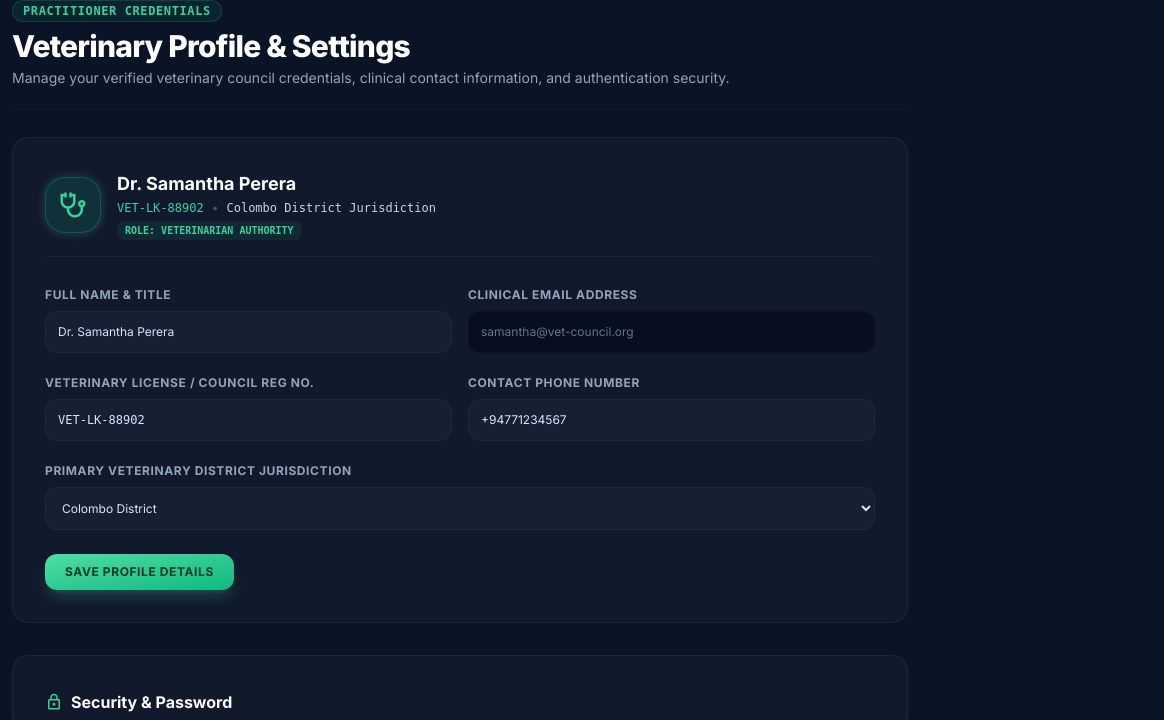
Test: VetSettings Component › submits updated profile via PUT /api/vet/profile and updates localStorage
The width and height of the screenshot is (1164, 720).
Replace the text in the field showing "Dr. Samantha Perera" below "Full Name & Title" with "Dr. Samantha Silva". click: (248, 332)
box: left=45, top=311, right=452, bottom=353
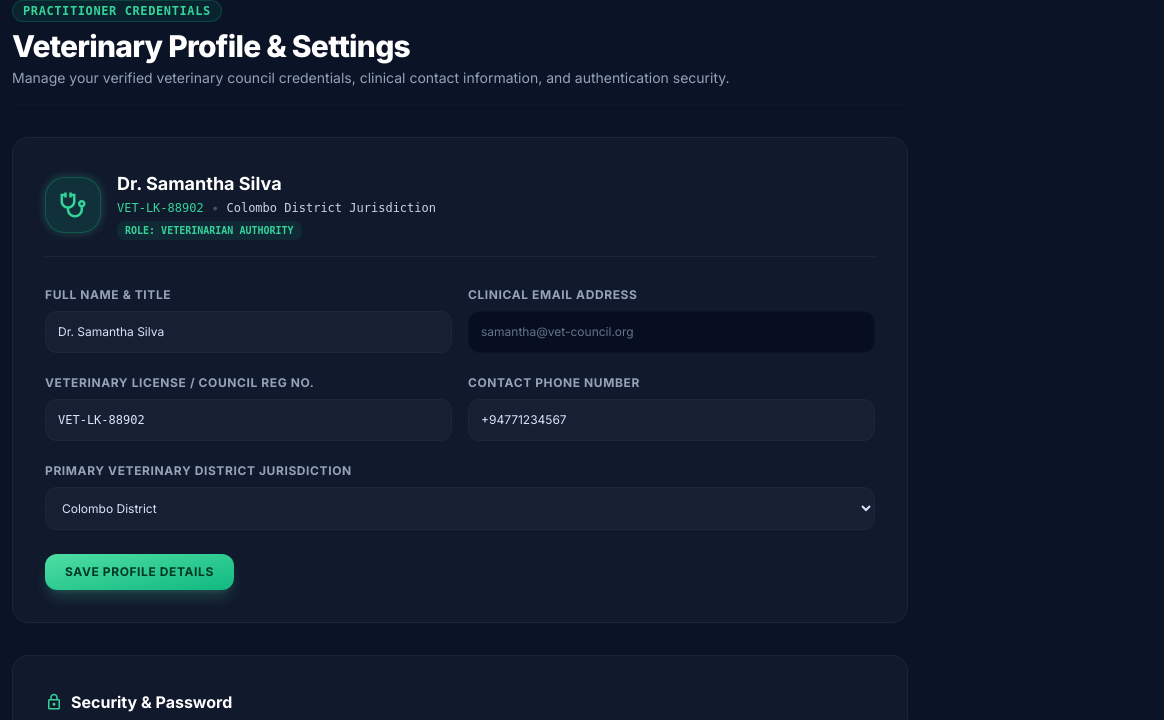
Replace the text in the field showing "+94771234567" below "Contact Phone Number" with "+94779998888". click: (672, 420)
box: left=468, top=399, right=875, bottom=441
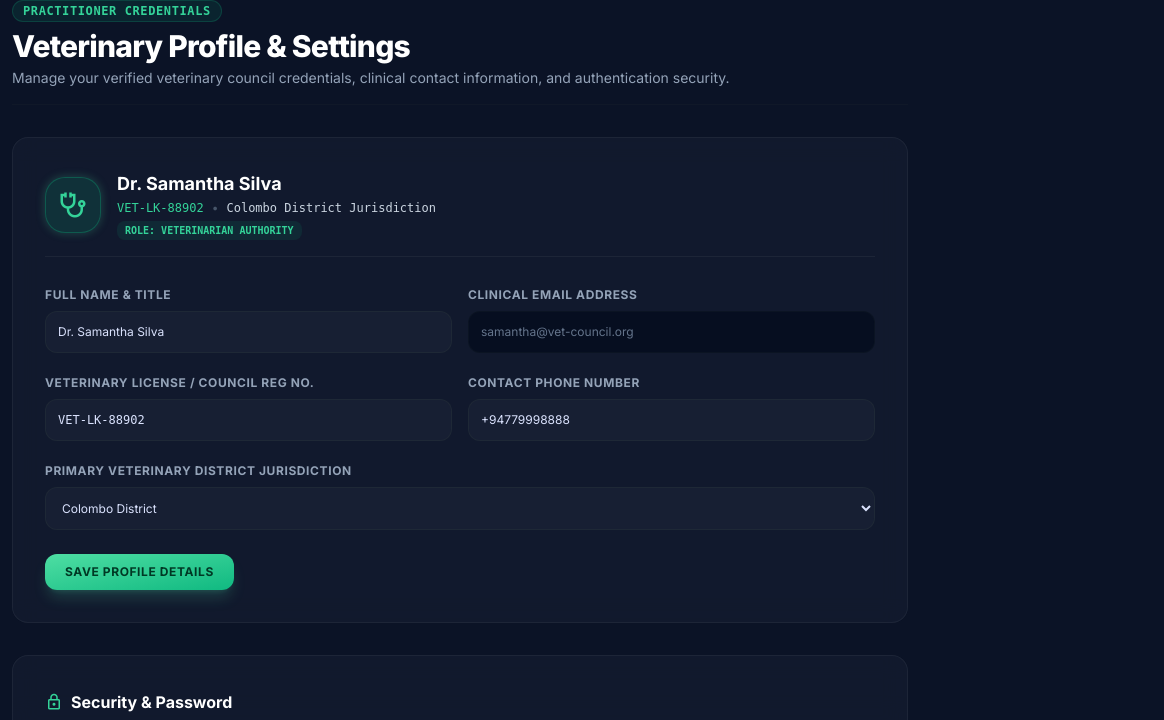
Select "Galle District" in the dropdown. click: (460, 508)
box: left=45, top=487, right=875, bottom=530
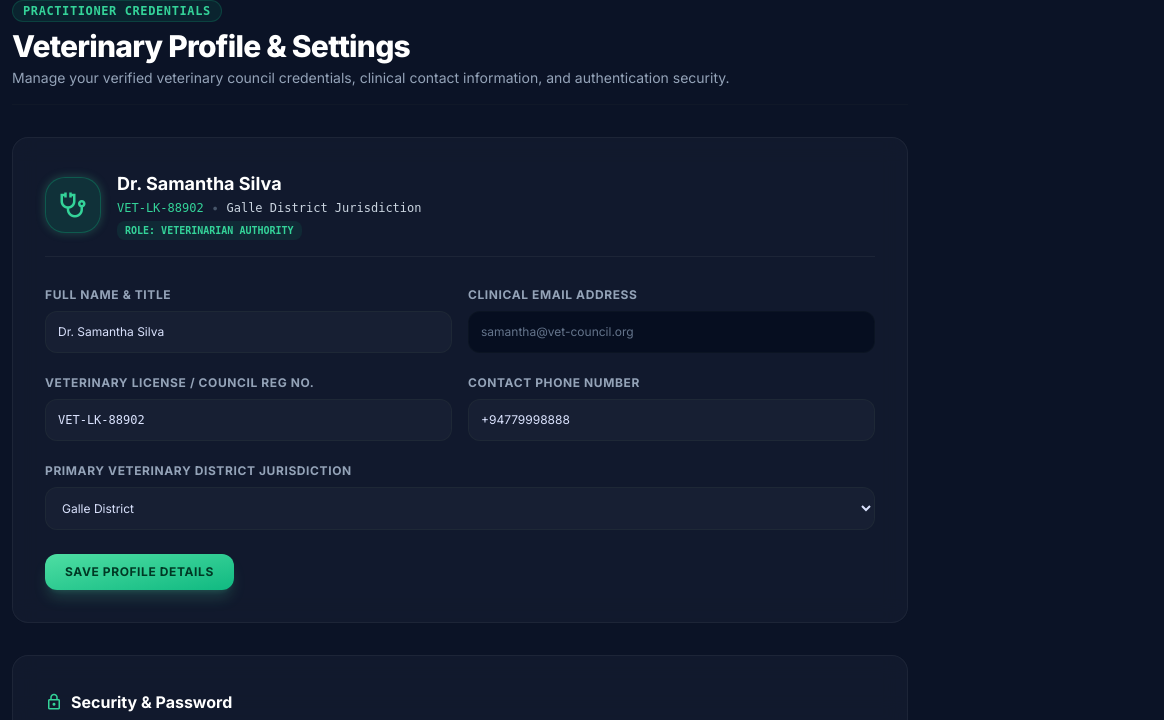
Click the button "Save Profile Details". click: (139, 572)
box: left=45, top=554, right=234, bottom=590
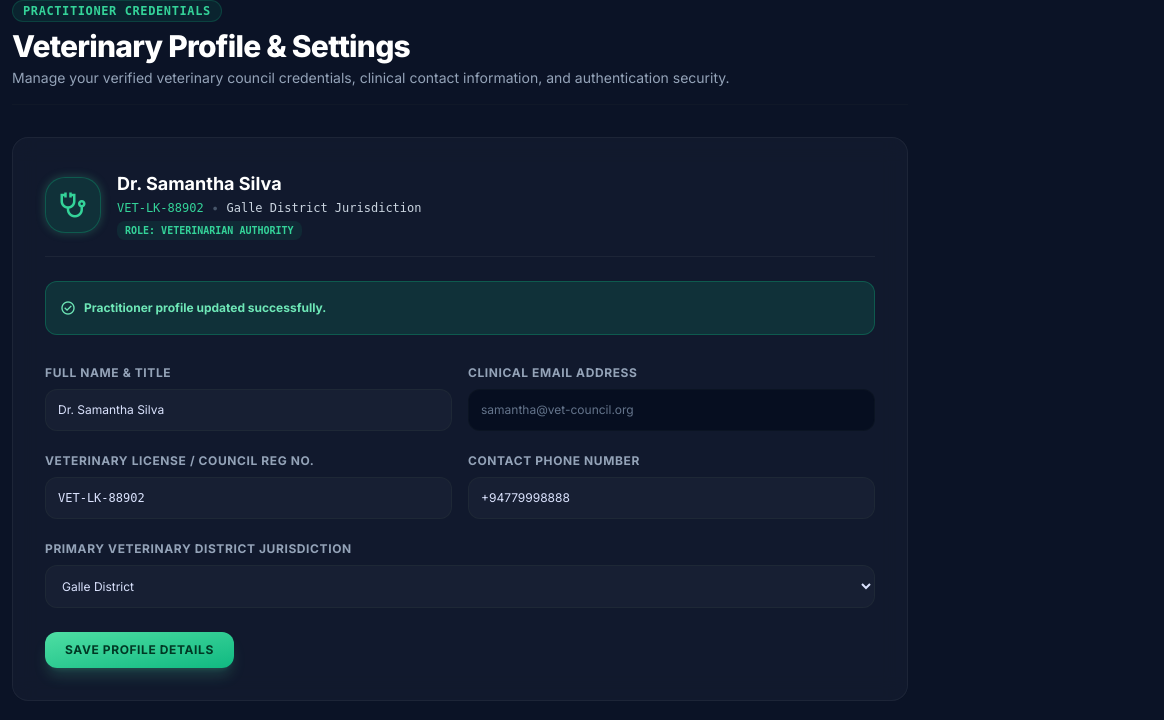
Check: the heading "Dr. Samantha Silva" is shown, box left=117, top=173, right=282, bottom=194
Check: the text "Practitioner profile updated successfully." is shown, box left=45, top=281, right=875, bottom=335
